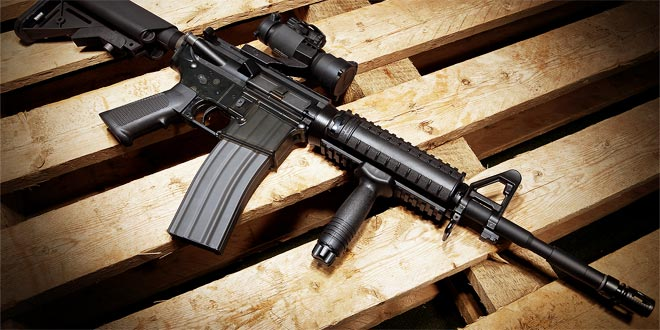Rifle: (10, 1, 657, 318)
